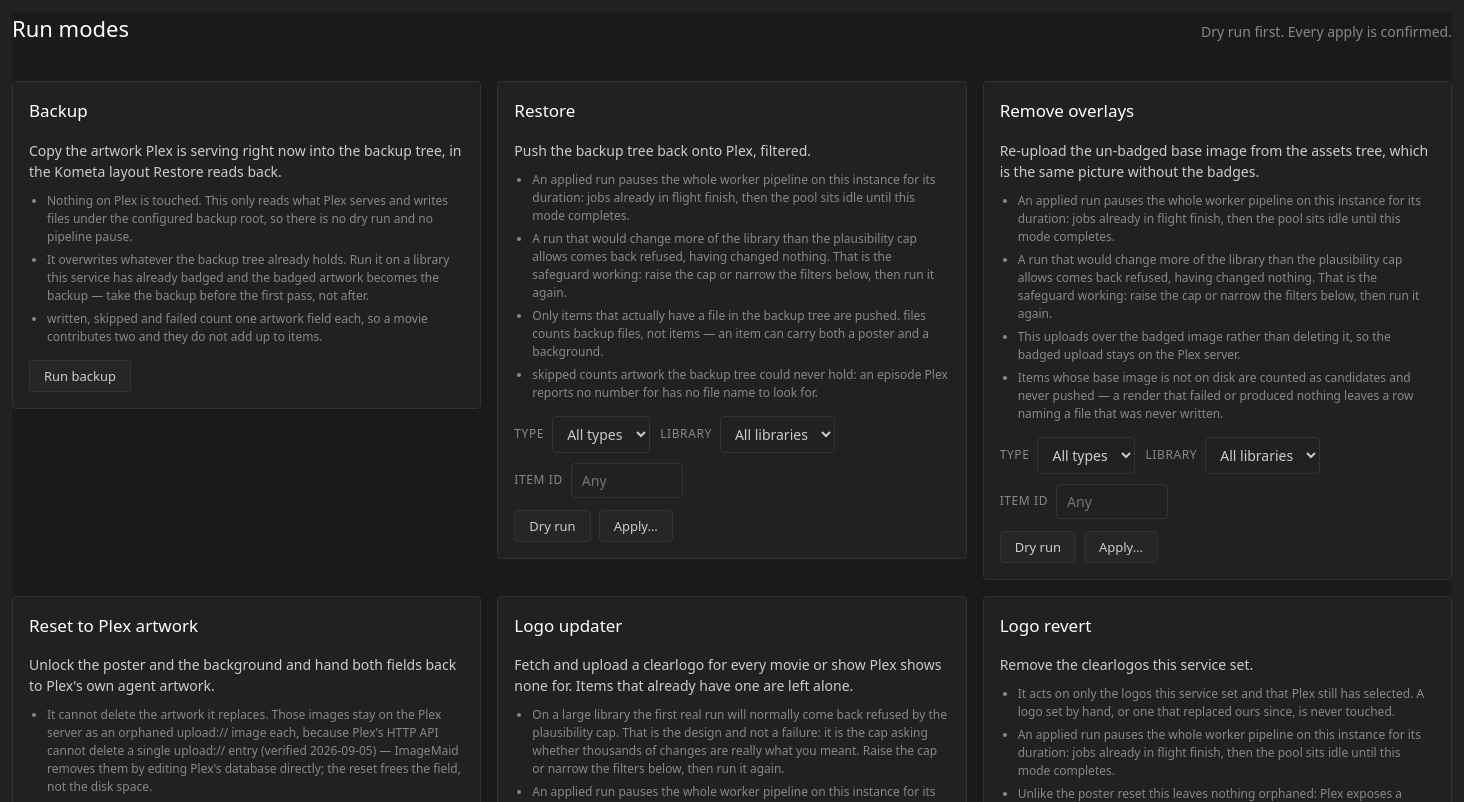
Test case: the confirmation gate › drops out of the gate on Cancel without firing
The width and height of the screenshot is (1464, 802).
Click the 1st button "Apply…" at x=636, y=526, box [599,510,673,542]
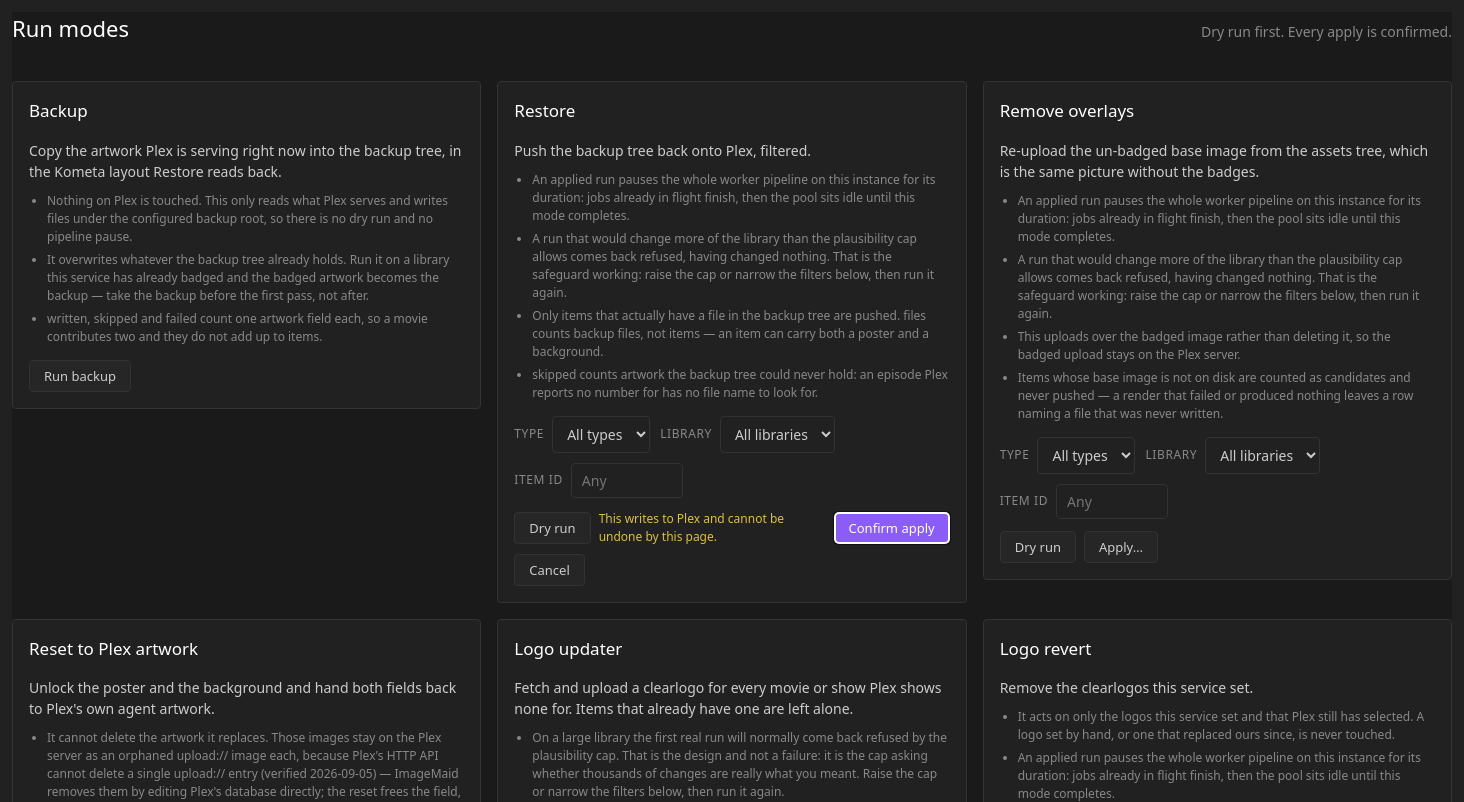
Click the button "Cancel" at x=550, y=570, box [514,554,585,586]
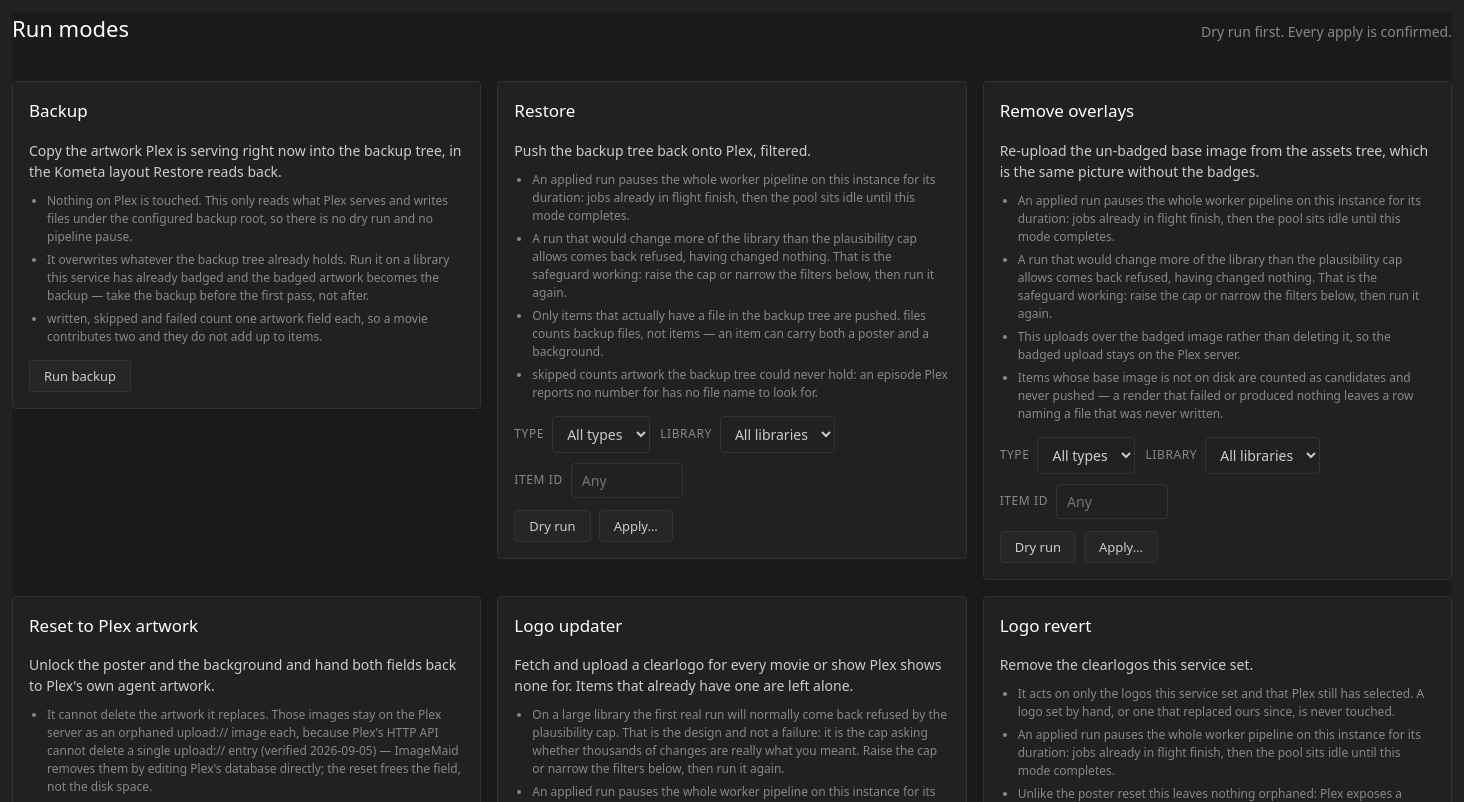
Now the button "Confirm apply" is gone
Now the 1st button "Apply…" is shown, box [599,510,673,542]
